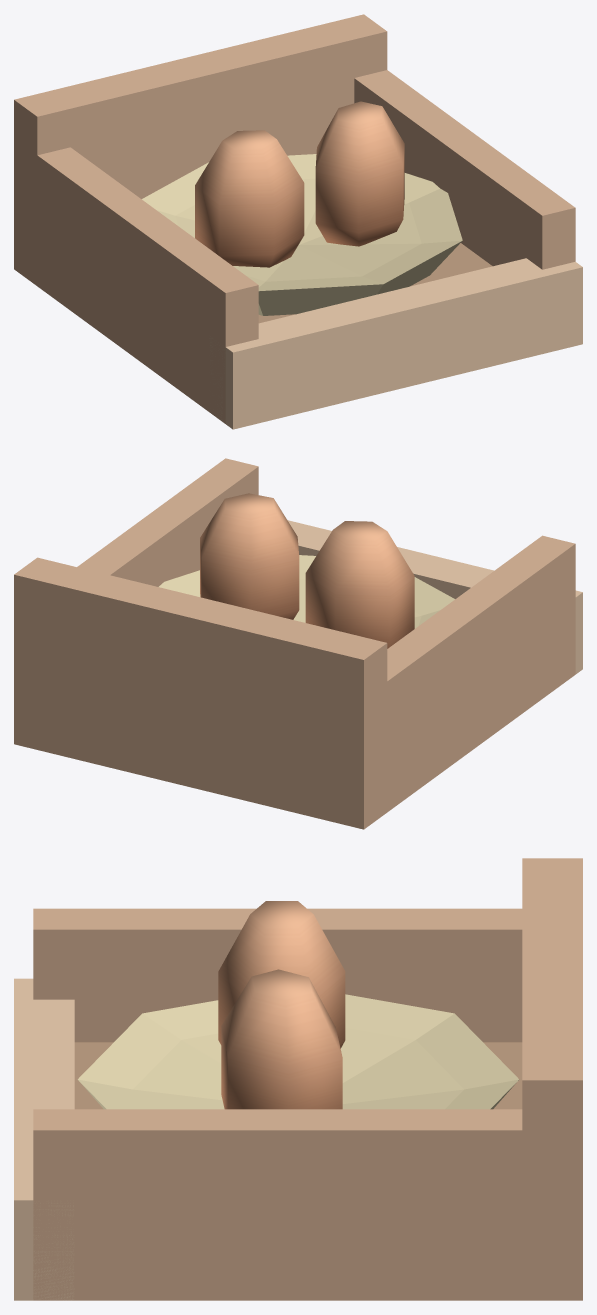
Rendered from crafted-nest-2.glb.
The picture shows the model from 3 angles, top to bottom: view 1: azimuth 30°, elevation 25°; view 2: azimuth 150°, elevation 25°; view 3: azimuth 270°, elevation 25°; orthographic projection. The views are drawn at different scales.
Visible parts, largest first — view 1: nest-back, nest-side, nest-front, nest-side-1, straw, egg-1, egg-2, nest-floor; view 2: nest-back, nest-side, egg-1, egg-2, nest-side-1, nest-front, straw; view 3: nest-side-1, nest-side, straw, nest-back, egg-2, nest-front, egg-1, nest-floor.
Part boxes in pixels (bbox=[...]): nest-back: bbox=[14, 14, 387, 285]; nest-side: bbox=[21, 144, 258, 423]; nest-front: bbox=[209, 258, 582, 429]; nest-side-1: bbox=[354, 70, 575, 269]; straw: bbox=[142, 154, 462, 315]; egg-1: bbox=[195, 130, 304, 267]; egg-2: bbox=[315, 101, 404, 246]; nest-floor: bbox=[258, 243, 492, 323]; nest-back: bbox=[14, 557, 387, 829]; nest-side: bbox=[371, 535, 575, 823]; egg-1: bbox=[305, 521, 414, 648]; egg-2: bbox=[200, 493, 299, 619]; nest-side-1: bbox=[77, 458, 258, 586]; nest-front: bbox=[287, 520, 582, 674]; straw: bbox=[159, 555, 454, 628]; nest-side-1: bbox=[33, 1109, 563, 1300]; nest-side: bbox=[33, 908, 522, 1042]; straw: bbox=[77, 994, 519, 1109]; nest-back: bbox=[522, 858, 582, 1300]; egg-2: bbox=[221, 969, 342, 1109]; nest-front: bbox=[14, 978, 74, 1300]; egg-1: bbox=[218, 901, 345, 1048]; nest-floor: bbox=[74, 1042, 522, 1109].
Bounding box in the file's own units: 0.475 × 0.24 × 0.515.
8 materials, 2 textured.
